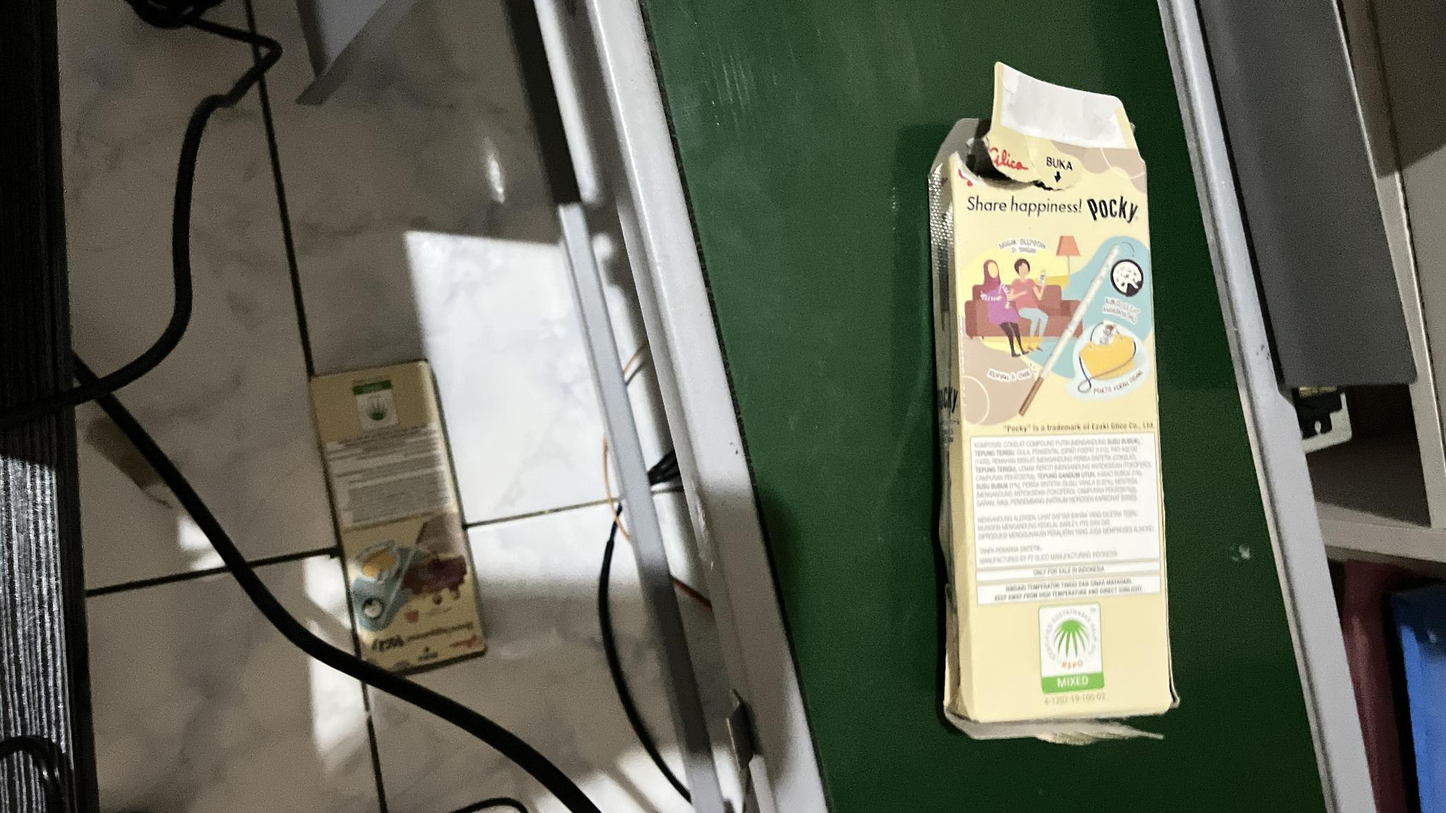Kertas: (929, 142, 1182, 747)
